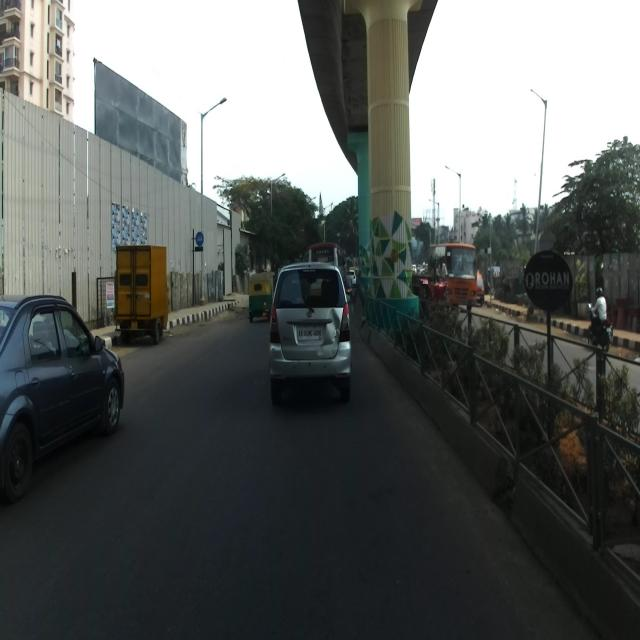autorickshaw: (113, 242, 174, 344)
car: (0, 290, 126, 505), (266, 260, 354, 408)
